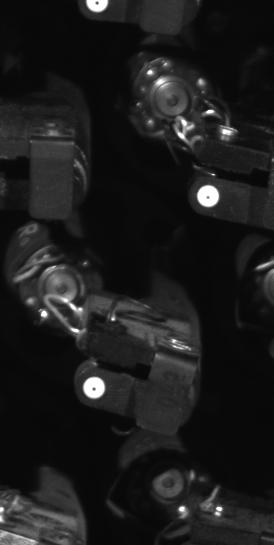fiber: (78, 371, 115, 404), (192, 180, 224, 212), (80, 1, 113, 14)
